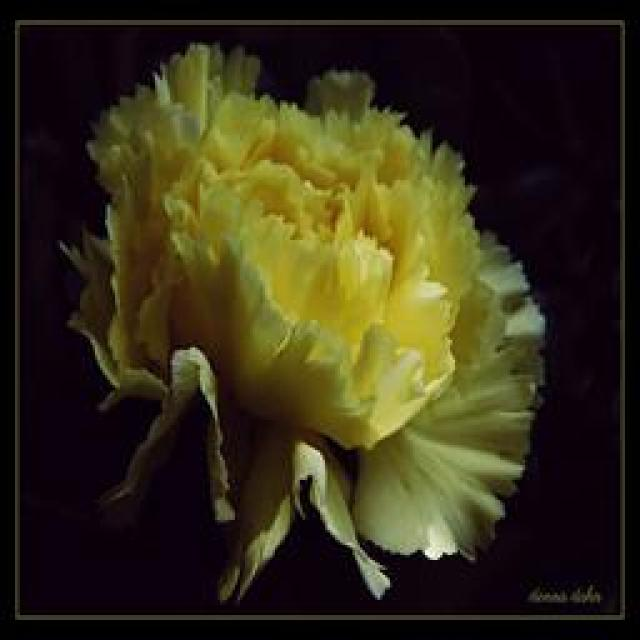carnation: (58, 42, 566, 618)
